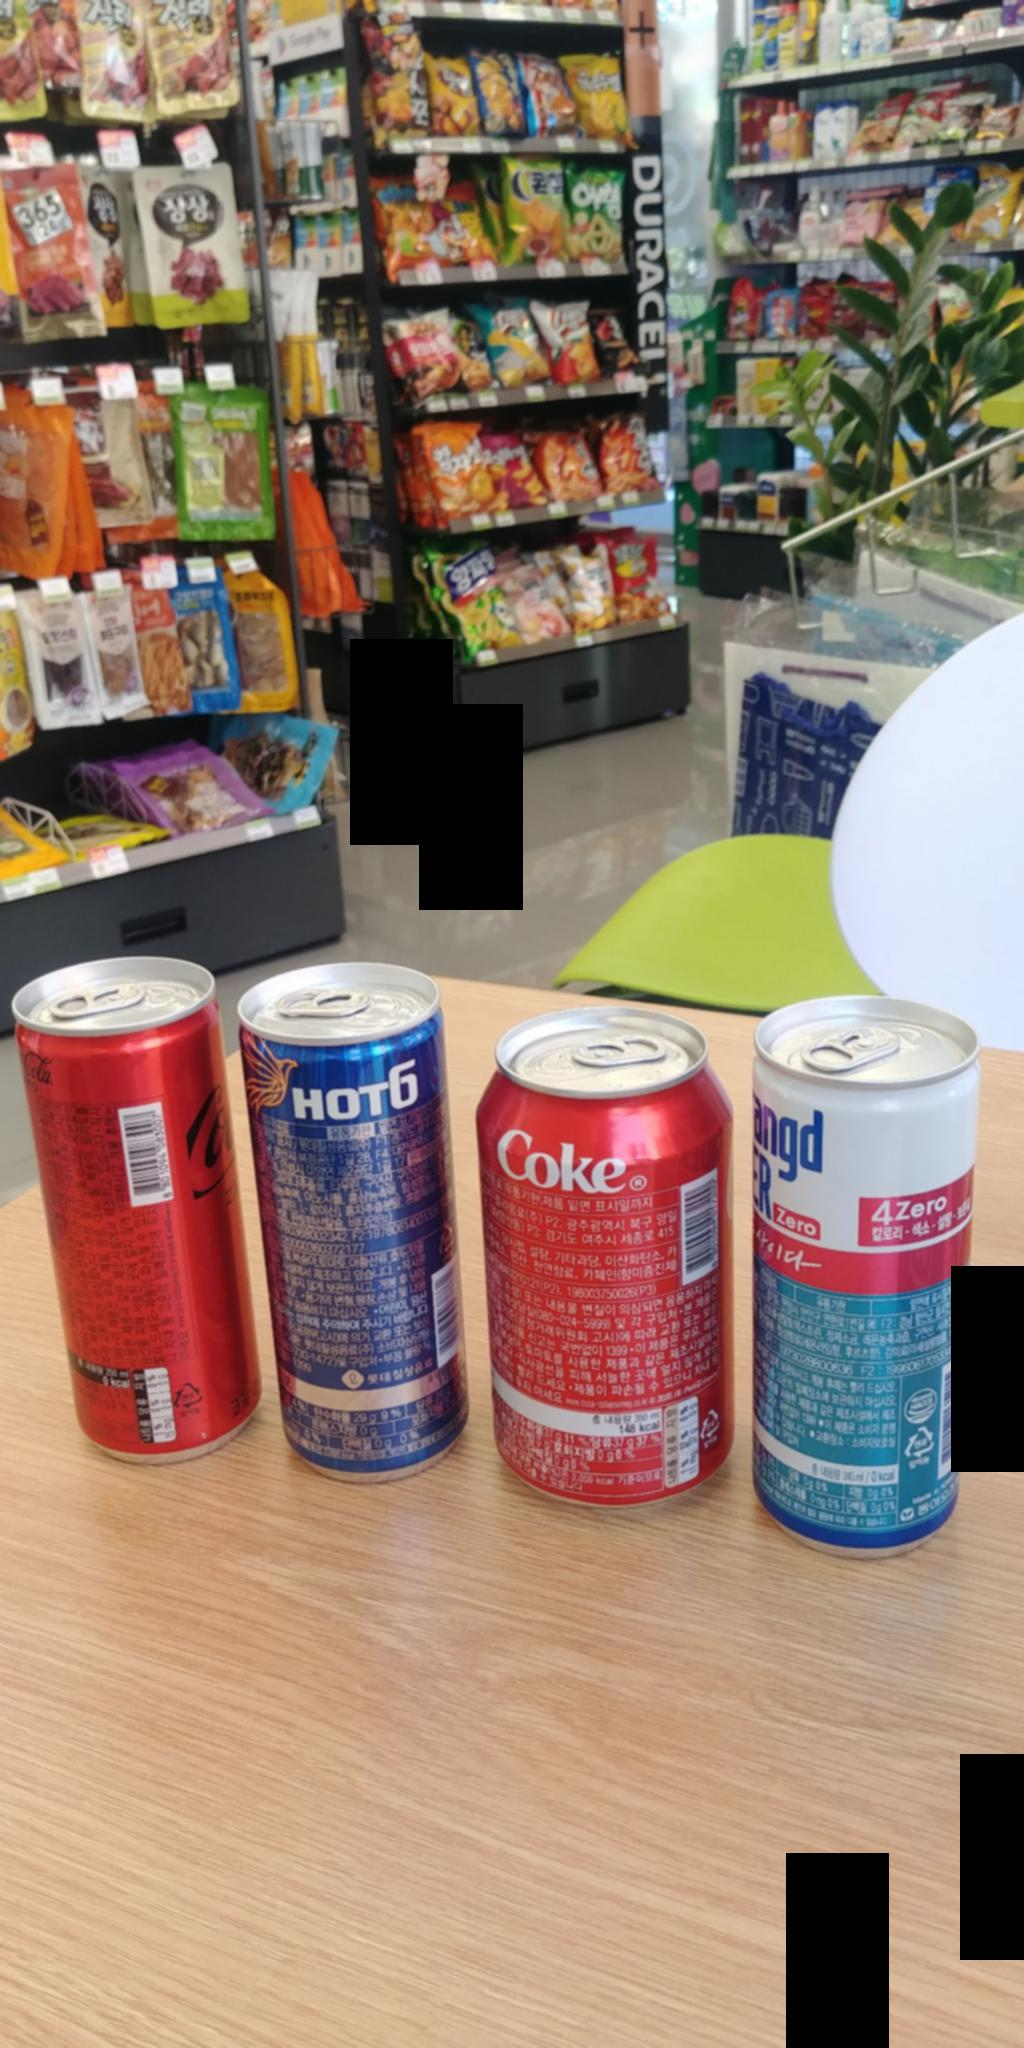cocacola: (465, 1033, 724, 1528)
hotsix_org: (232, 969, 455, 1482)
narangdcider: (750, 994, 1000, 1541)
